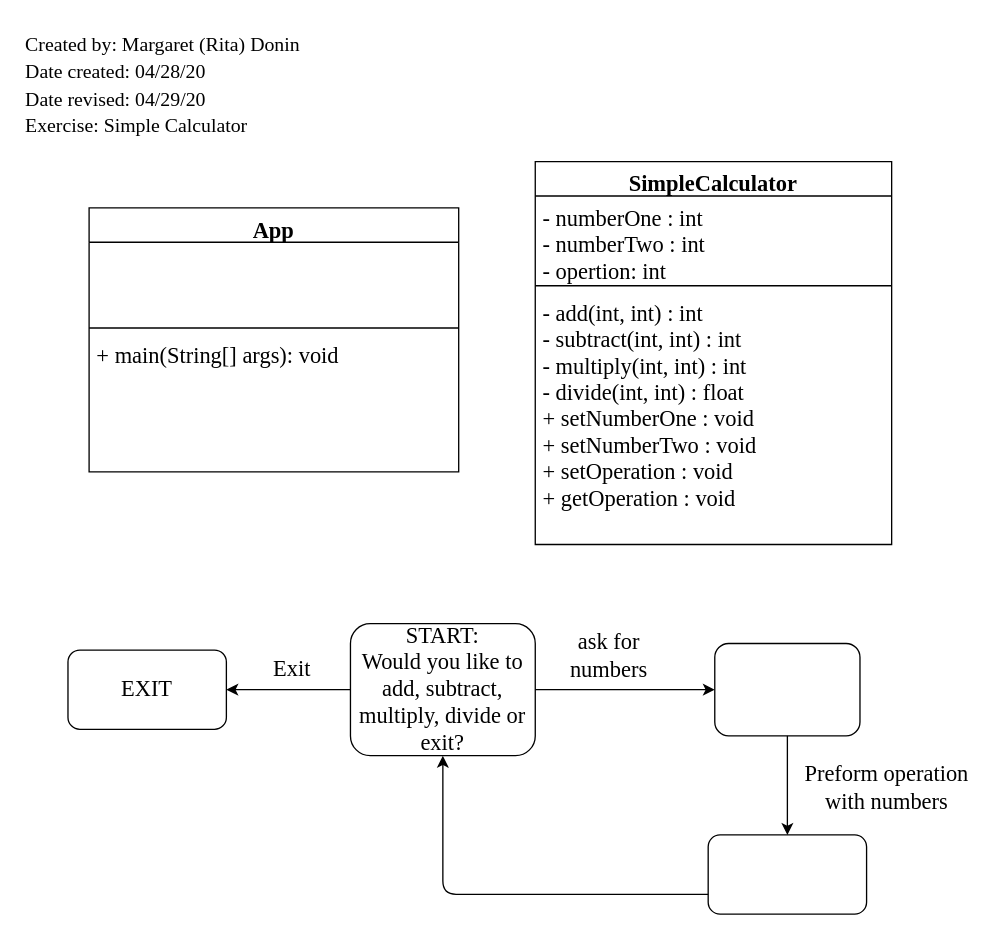
The diagram is 1001 pixels wide and 937 high, and some of its shapes have lost their labels. The centre of each missing label's shape, as x and y in pixels:
return value: [787,874]
set numbers.: [786,689]
